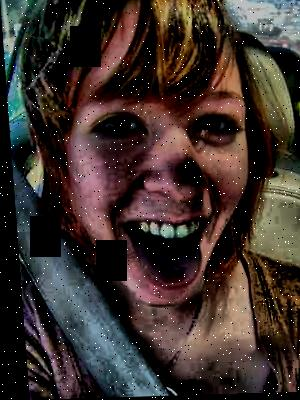seatbelt: (29, 158, 154, 394)
